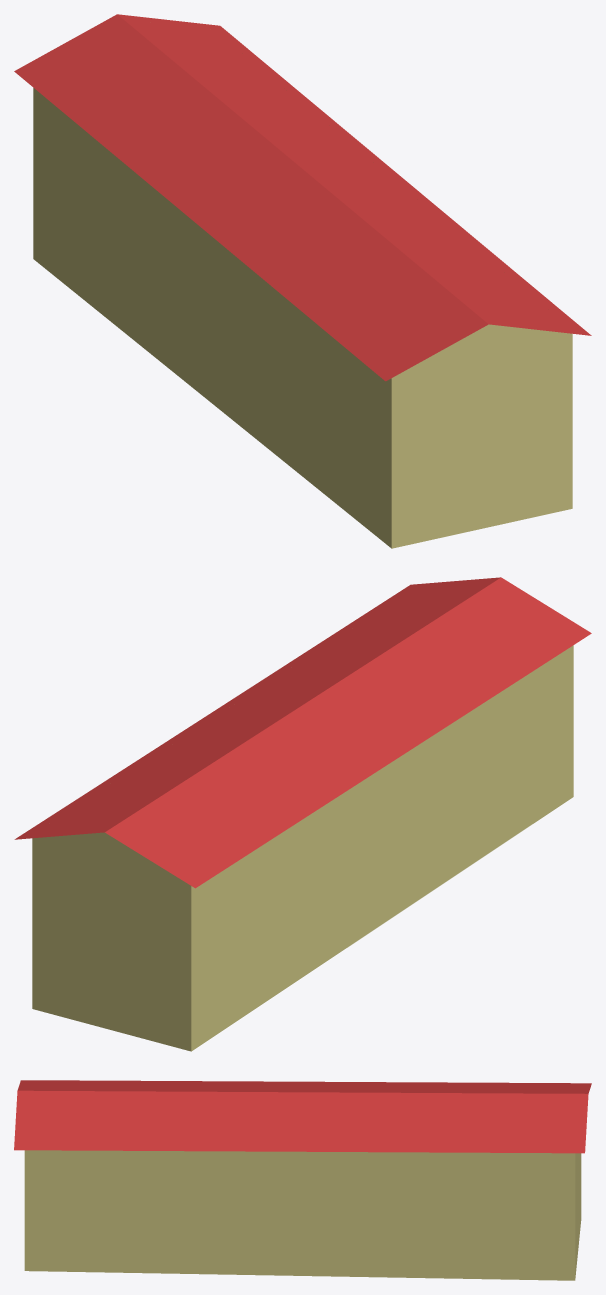
3 views of the same model, one above another, from view 1: azimuth 30°, elevation 25°; view 2: azimuth 150°, elevation 25°; view 3: azimuth 270°, elevation 25° (orthographic). The views are drawn at different scales.
Bounding box in the file's own units: 13.85 × 42.21 × 12.61.
